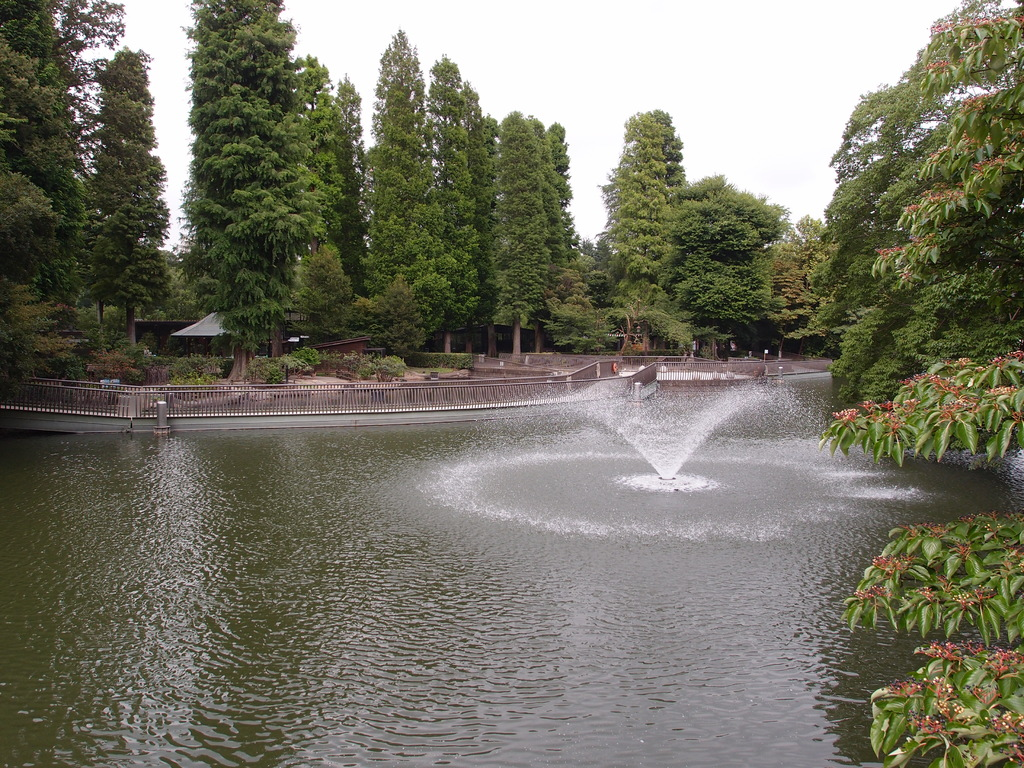Tree: (0, 0, 574, 395), (794, 19, 1013, 436), (577, 112, 780, 355)
